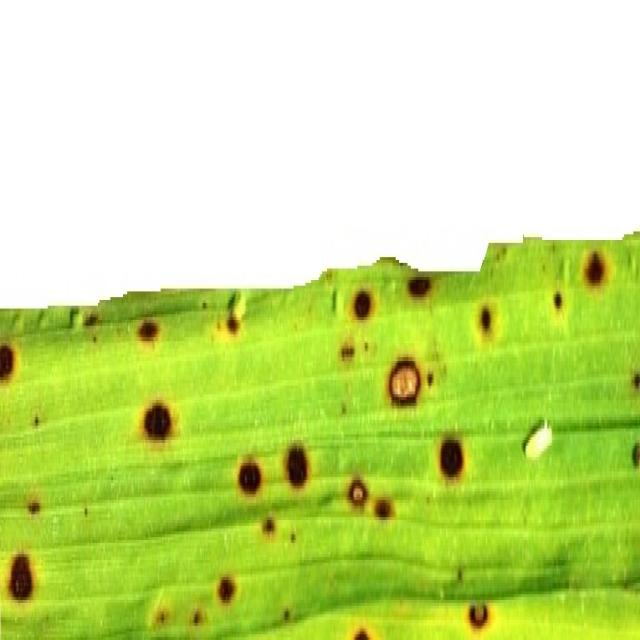brown spot: (382, 348, 435, 420), (136, 388, 188, 458), (0, 541, 45, 613), (280, 425, 319, 495), (470, 288, 506, 356), (234, 442, 269, 509), (462, 583, 501, 640), (578, 236, 612, 296), (434, 427, 468, 483), (0, 326, 27, 395), (370, 484, 406, 534), (348, 270, 377, 332), (210, 561, 240, 620), (180, 585, 210, 640), (217, 293, 247, 345), (542, 278, 572, 326), (346, 471, 372, 516), (338, 321, 359, 374), (72, 314, 104, 346), (150, 594, 171, 640), (346, 618, 387, 640), (139, 314, 162, 352), (625, 424, 640, 480), (24, 491, 46, 528), (258, 511, 280, 546), (629, 345, 640, 402), (286, 519, 300, 560), (281, 592, 294, 634)
